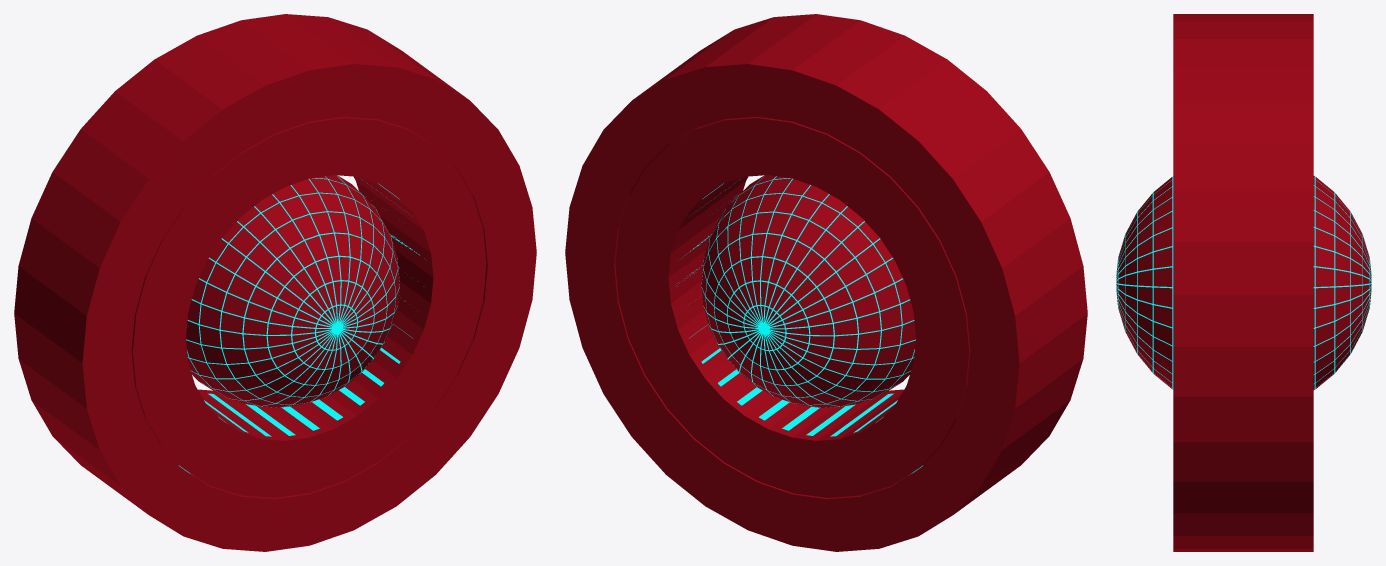
Rendered from spidey.glb.
3 renders of one model, left to right at view 1: azimuth 30°, elevation 25°; view 2: azimuth 150°, elevation 25°; view 3: azimuth 270°, elevation 25°, orthographic. The views are drawn at different scales.
Visible parts, largest first — view 1: Circle, Sphere, Circle.001, Circle.004, Circle.002, Circle.003; view 2: Circle, Sphere, Circle.001, Circle.004, Circle.002, Circle.003; view 3: Circle, Sphere.
Part boxes in pixels (bbox=[...]): Circle: bbox=[14, 14, 536, 551]; Sphere: bbox=[186, 175, 399, 407]; Circle.001: bbox=[108, 92, 510, 524]; Circle.004: bbox=[170, 158, 449, 457]; Circle.002: bbox=[131, 116, 486, 497]; Circle.003: bbox=[153, 139, 466, 475]; Circle: bbox=[565, 14, 1087, 551]; Sphere: bbox=[701, 175, 915, 407]; Circle.001: bbox=[591, 92, 993, 524]; Circle.004: bbox=[652, 157, 932, 458]; Circle.002: bbox=[615, 116, 970, 497]; Circle.003: bbox=[636, 140, 948, 475]; Circle: bbox=[1173, 14, 1313, 551]; Sphere: bbox=[1116, 176, 1371, 389].
Bounding box in the file's own units: 5.7 × 5.7 × 2.7.
